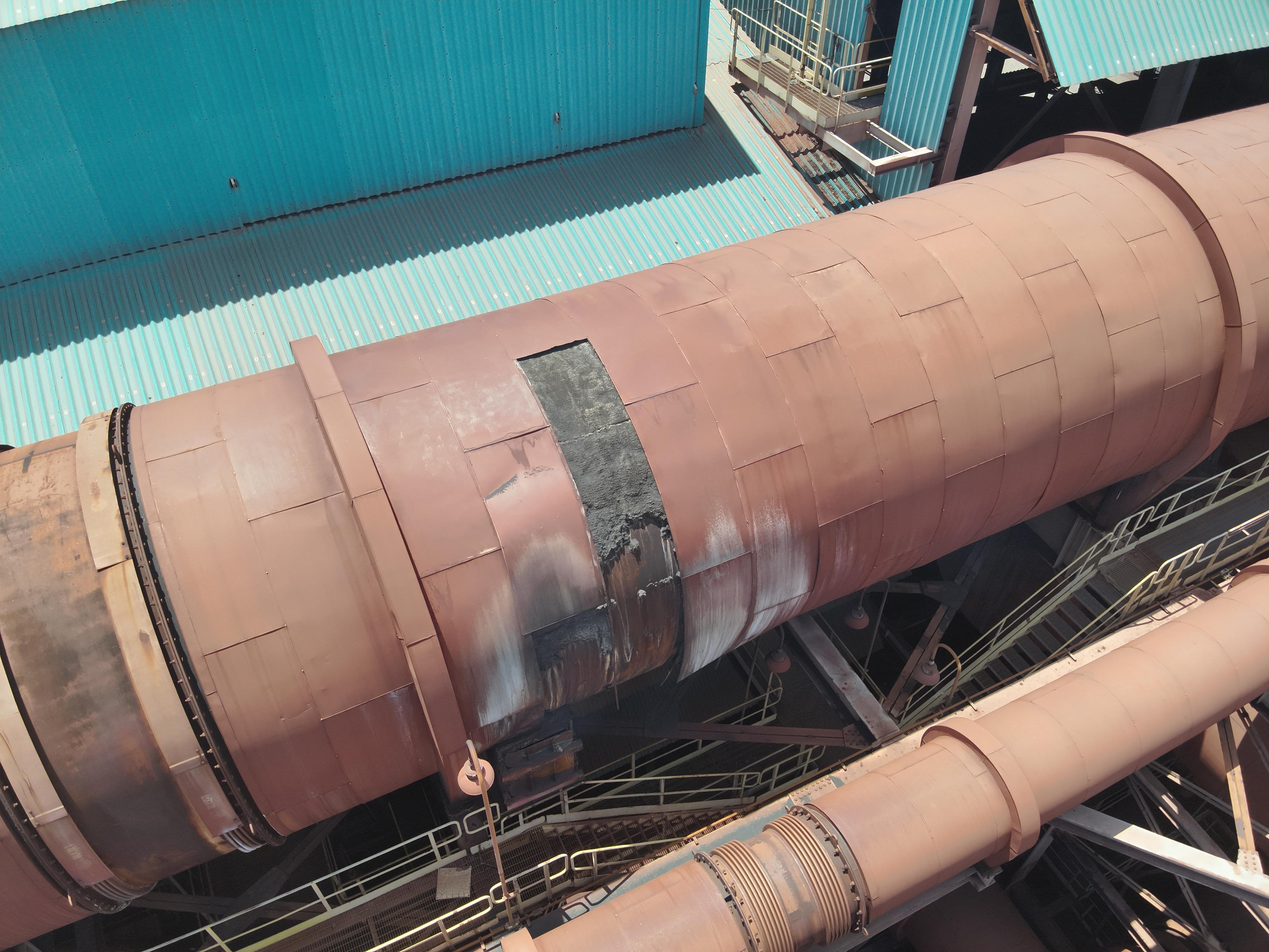Failures: (463, 321, 811, 784)
